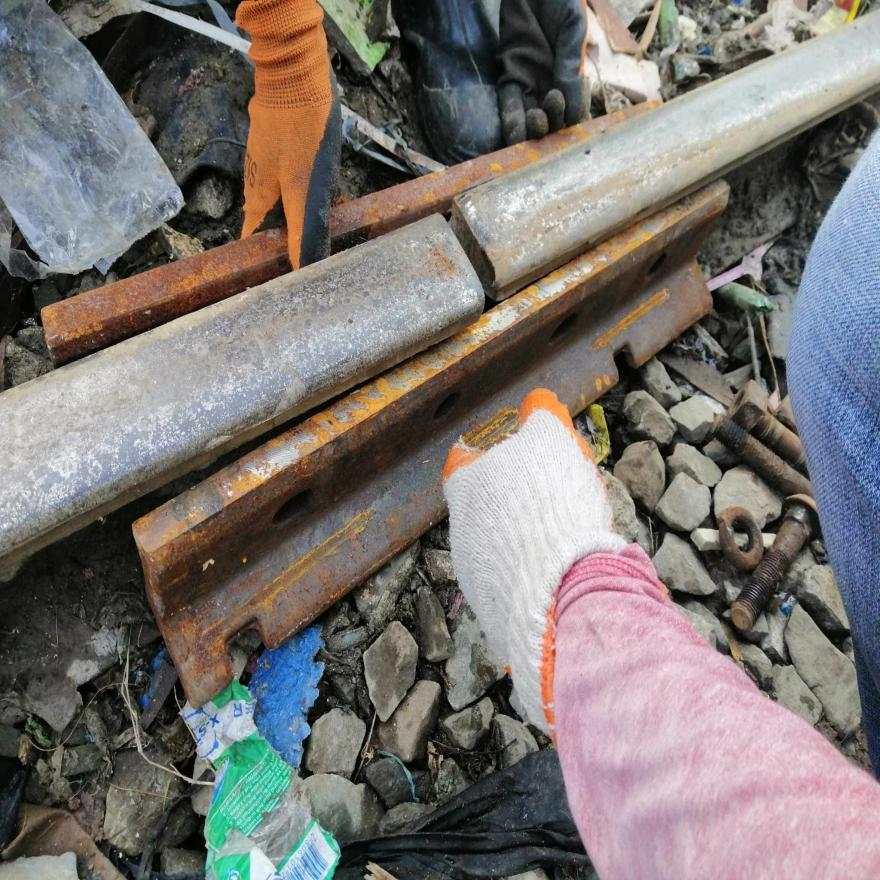railway-gap: (406, 167, 528, 333)
